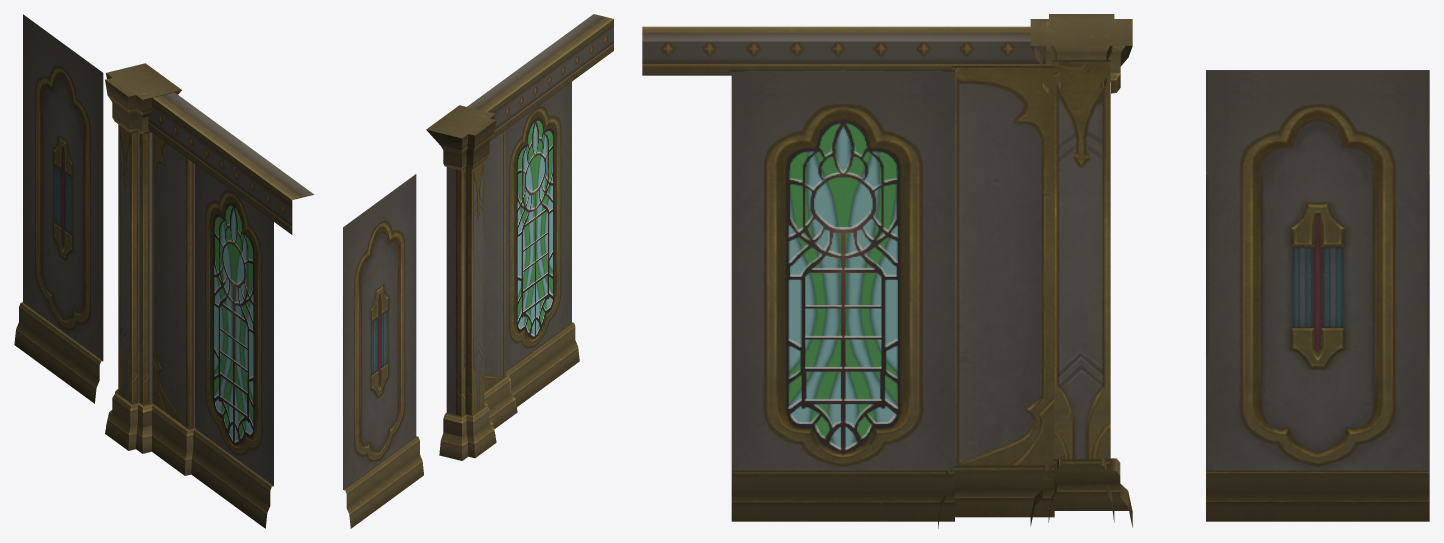
File: WC_qiang01.FBX
3 views of the same model, side by side, from view 1: azimuth 30°, elevation 25°; view 2: azimuth 150°, elevation 25°; view 3: azimuth 270°, elevation 25° (orthographic). The views are drawn at different scales.
Parts seen in each view (by area): view 1: WC_qiang01_004, WC_qiang01_003, WC_qiang01_001, WC_qiang01_002, WC_qiang01_005; view 2: WC_qiang01_004, WC_qiang01_003, WC_qiang01_001, WC_qiang01_002, WC_qiang01_005; view 3: WC_qiang01_004, WC_qiang01_003, WC_qiang01_002, WC_qiang01_001, WC_qiang01_005.
Boxes of the visible parts, bbox=[...] form: WC_qiang01_004: bbox=[14, 14, 103, 403]; WC_qiang01_003: bbox=[191, 164, 273, 528]; WC_qiang01_001: bbox=[105, 63, 181, 453]; WC_qiang01_002: bbox=[151, 133, 195, 475]; WC_qiang01_005: bbox=[148, 92, 314, 234]; WC_qiang01_004: bbox=[343, 174, 423, 528]; WC_qiang01_003: bbox=[505, 82, 579, 406]; WC_qiang01_001: bbox=[426, 105, 496, 460]; WC_qiang01_002: bbox=[484, 130, 517, 428]; WC_qiang01_005: bbox=[467, 14, 613, 141]; WC_qiang01_004: bbox=[1206, 70, 1429, 521]; WC_qiang01_003: bbox=[731, 70, 954, 521]; WC_qiang01_002: bbox=[938, 66, 1054, 528]; WC_qiang01_001: bbox=[1030, 14, 1132, 527]; WC_qiang01_005: bbox=[642, 26, 1045, 75].
Size of the model in its own units: 261 by 1868 by 2710.
